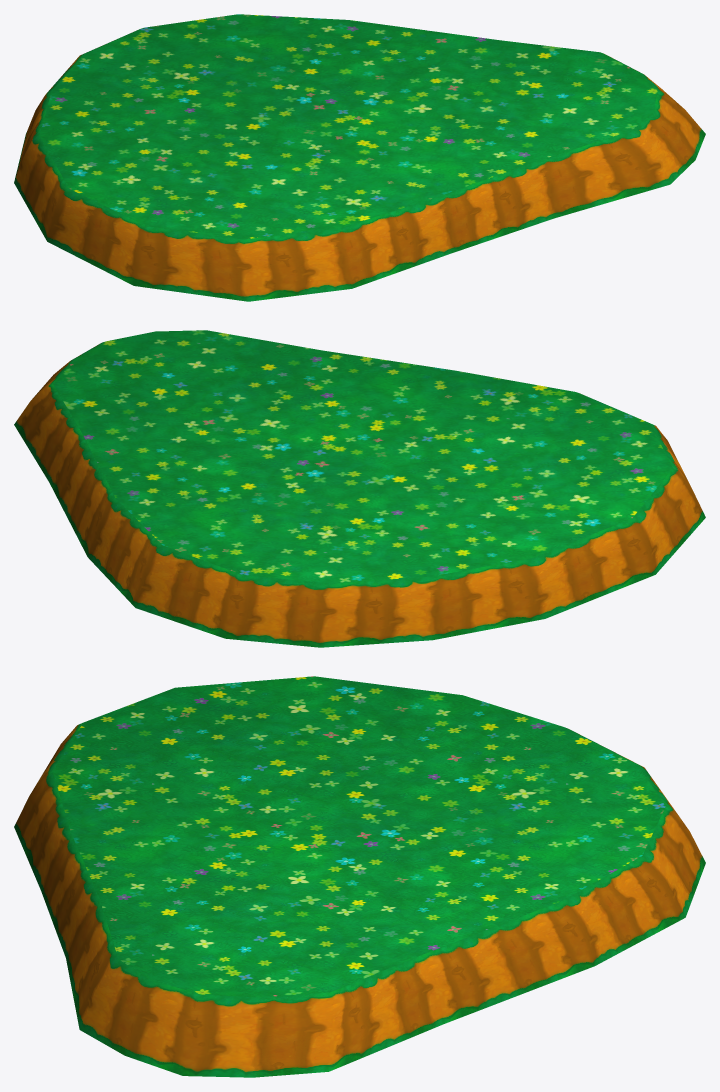
The model's file is Hill02_h01.FBX.
3 renders of one model, top to bottom at view 1: azimuth 30°, elevation 25°; view 2: azimuth 150°, elevation 25°; view 3: azimuth 270°, elevation 25°, orthographic. The views are drawn at different scales.
Visible parts, largest first — view 1: Hill02_h01; view 2: Hill02_h01; view 3: Hill02_h01.
Part boxes in pixels (box(x1,y1,x2,y2)): Hill02_h01: box(14, 14, 705, 301); Hill02_h01: box(14, 330, 705, 647); Hill02_h01: box(14, 676, 705, 1077).
Size of the model in its own units: 2010 by 151 by 1647.
2 materials, 2 textured.
